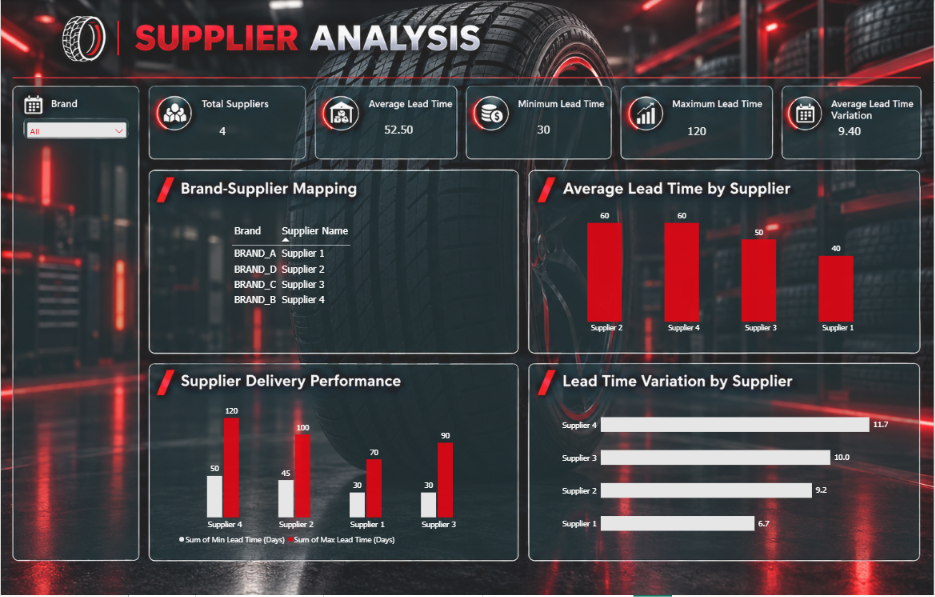

The page's visual inventory and layout, read from the dashboard file:
{"tool":"powerbi","page":{"name":"SUPPLIER ANALYSIS","canvas":[1940,1240],"ordinal":3},"visuals":[{"type":"cardVisual","fields":{"Data":["Supplier.Total Suppliers"]},"box":[438.8,199.7,153.9,145.6],"z":0},{"type":"cardVisual","fields":{"Data":["Supplier.Avg Lead Time"]},"box":[782,208,151.8,124.8],"z":1000},{"type":"cardVisual","fields":{"Data":["Supplier.Mnm Lead Time"]},"box":[1100.2,241.3,118.5,56.2],"z":2000},{"type":"cardVisual","fields":{"Data":["Supplier.Mxm Lead Time"]},"box":[1412.2,210.1,172.6,126.9],"z":3000},{"type":"cardVisual","fields":{"Data":["Supplier.Avg Lead Time variation"]},"box":[1726.2,241.3,101.9,62.4],"z":4000},{"type":"columnChart","fields":{"Category":["Supplier.Supplier Name"],"Y":["Sum(Supplier.Avg Lead Time (Days))"]},"box":[1139.7,413.9,721.7,299.5],"z":5000},{"type":"clusteredColumnChart","fields":{"Category":["Supplier.Supplier Name"],"Y":["Sum(Supplier.Min Lead Time (Days))","Sum(Supplier.Max Lead Time (Days))"]},"box":[353.6,819.4,669.7,334.8],"z":6000},{"type":"barChart","fields":{"Category":["Supplier.Supplier Name"],"Y":["Sum(Supplier.Lead Time Std Dev (Days))"]},"box":[1139.7,819.4,721.7,332.8],"z":7000},{"type":"tableEx","fields":{"Values":["Supplier.Brand","Supplier.Supplier Name"]},"box":[463.8,449.2,376.4,228.8],"z":8000},{"type":"slicer","fields":{"Values":["Supplier.Brand"]},"box":[49.9,251.7,216.3,62.4],"z":9000}]}

Visuals, with their boxes in screenshot pixels (x1, y1, x2, y2), scaled from the page's 1940x1240 canvas onto the 935x597 screenshot:
cardVisual - Supplier.Total Suppliers: {"x1": 211, "y1": 96, "x2": 286, "y2": 166}
cardVisual - Supplier.Avg Lead Time: {"x1": 377, "y1": 100, "x2": 450, "y2": 160}
cardVisual - Supplier.Mnm Lead Time: {"x1": 530, "y1": 116, "x2": 587, "y2": 143}
cardVisual - Supplier.Mxm Lead Time: {"x1": 681, "y1": 101, "x2": 764, "y2": 162}
cardVisual - Supplier.Avg Lead Time variation: {"x1": 832, "y1": 116, "x2": 881, "y2": 146}
columnChart - Supplier.Supplier Name x Sum(Supplier.Avg Lead Time (Days)): {"x1": 549, "y1": 199, "x2": 897, "y2": 343}
clusteredColumnChart - Supplier.Supplier Name x Sum(Supplier.Min Lead Time (Days)): {"x1": 170, "y1": 395, "x2": 493, "y2": 556}
barChart - Supplier.Supplier Name x Sum(Supplier.Lead Time Std Dev (Days)): {"x1": 549, "y1": 395, "x2": 897, "y2": 555}
tableEx - Supplier.Brand x Supplier.Supplier Name: {"x1": 224, "y1": 216, "x2": 405, "y2": 326}
slicer - Supplier.Brand: {"x1": 24, "y1": 121, "x2": 128, "y2": 151}
